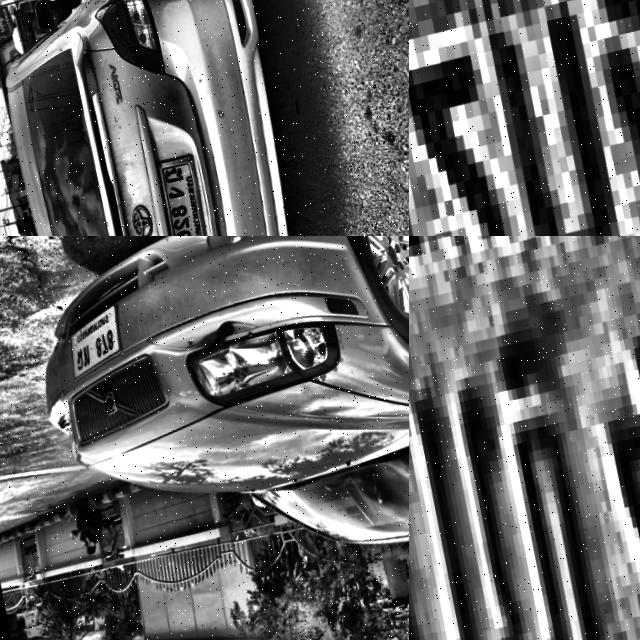license-plate: (409, 236, 640, 640), (409, 0, 640, 236), (60, 299, 135, 385), (48, 89, 122, 140)
